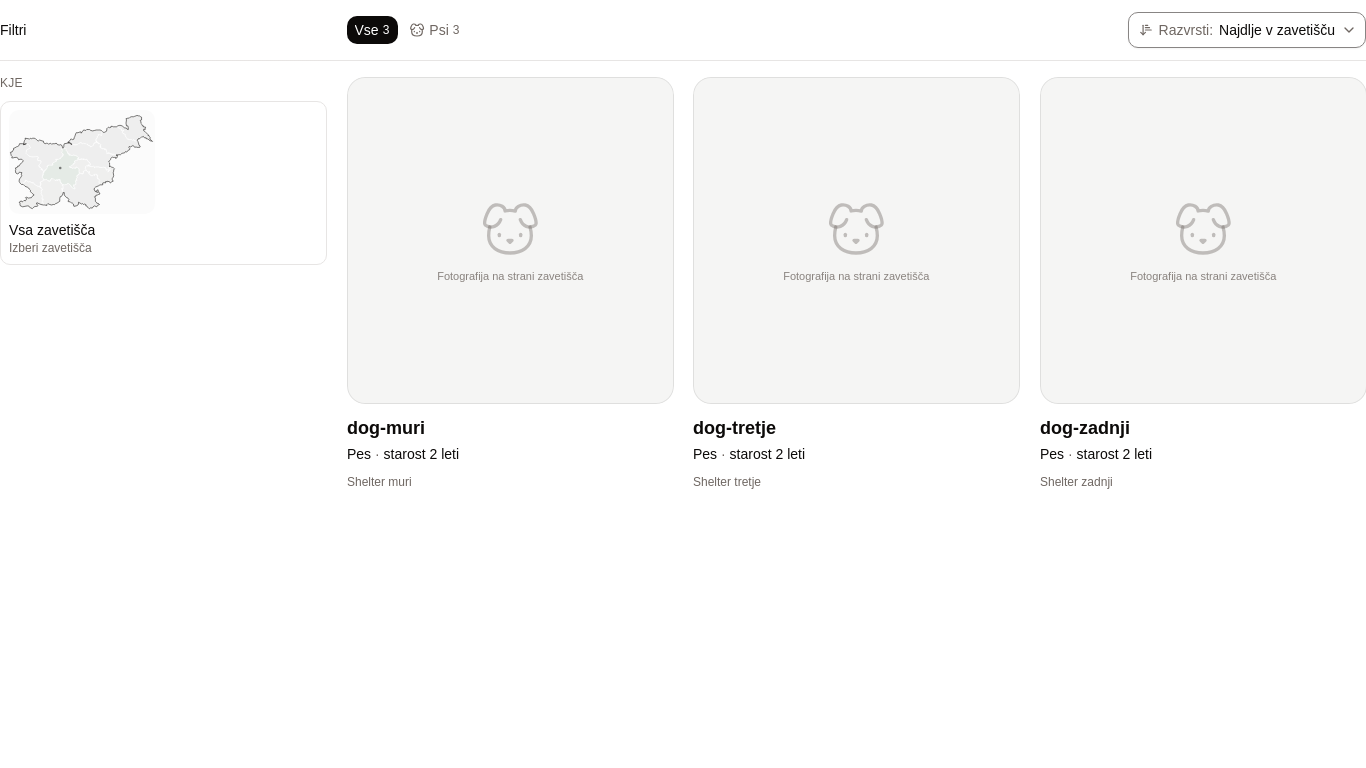
Test: animal grid renders › leaves the other cards alone when one of them opens
Click the link "dog-muri Pes · starost 2 leti".
click(403, 440)  # box x1=346 y1=418 x2=459 y2=462
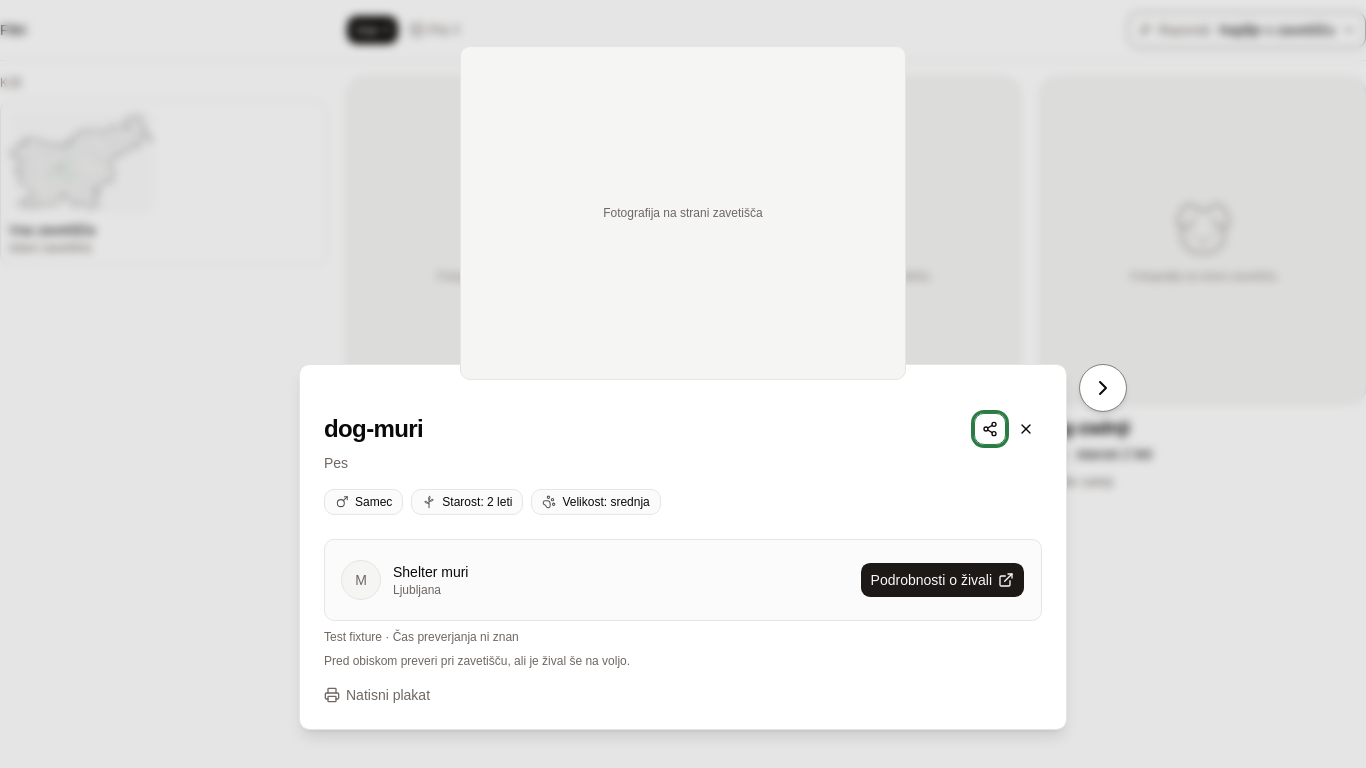
Check: the dialog is shown, box x1=299 y1=38 x2=1067 y2=730
